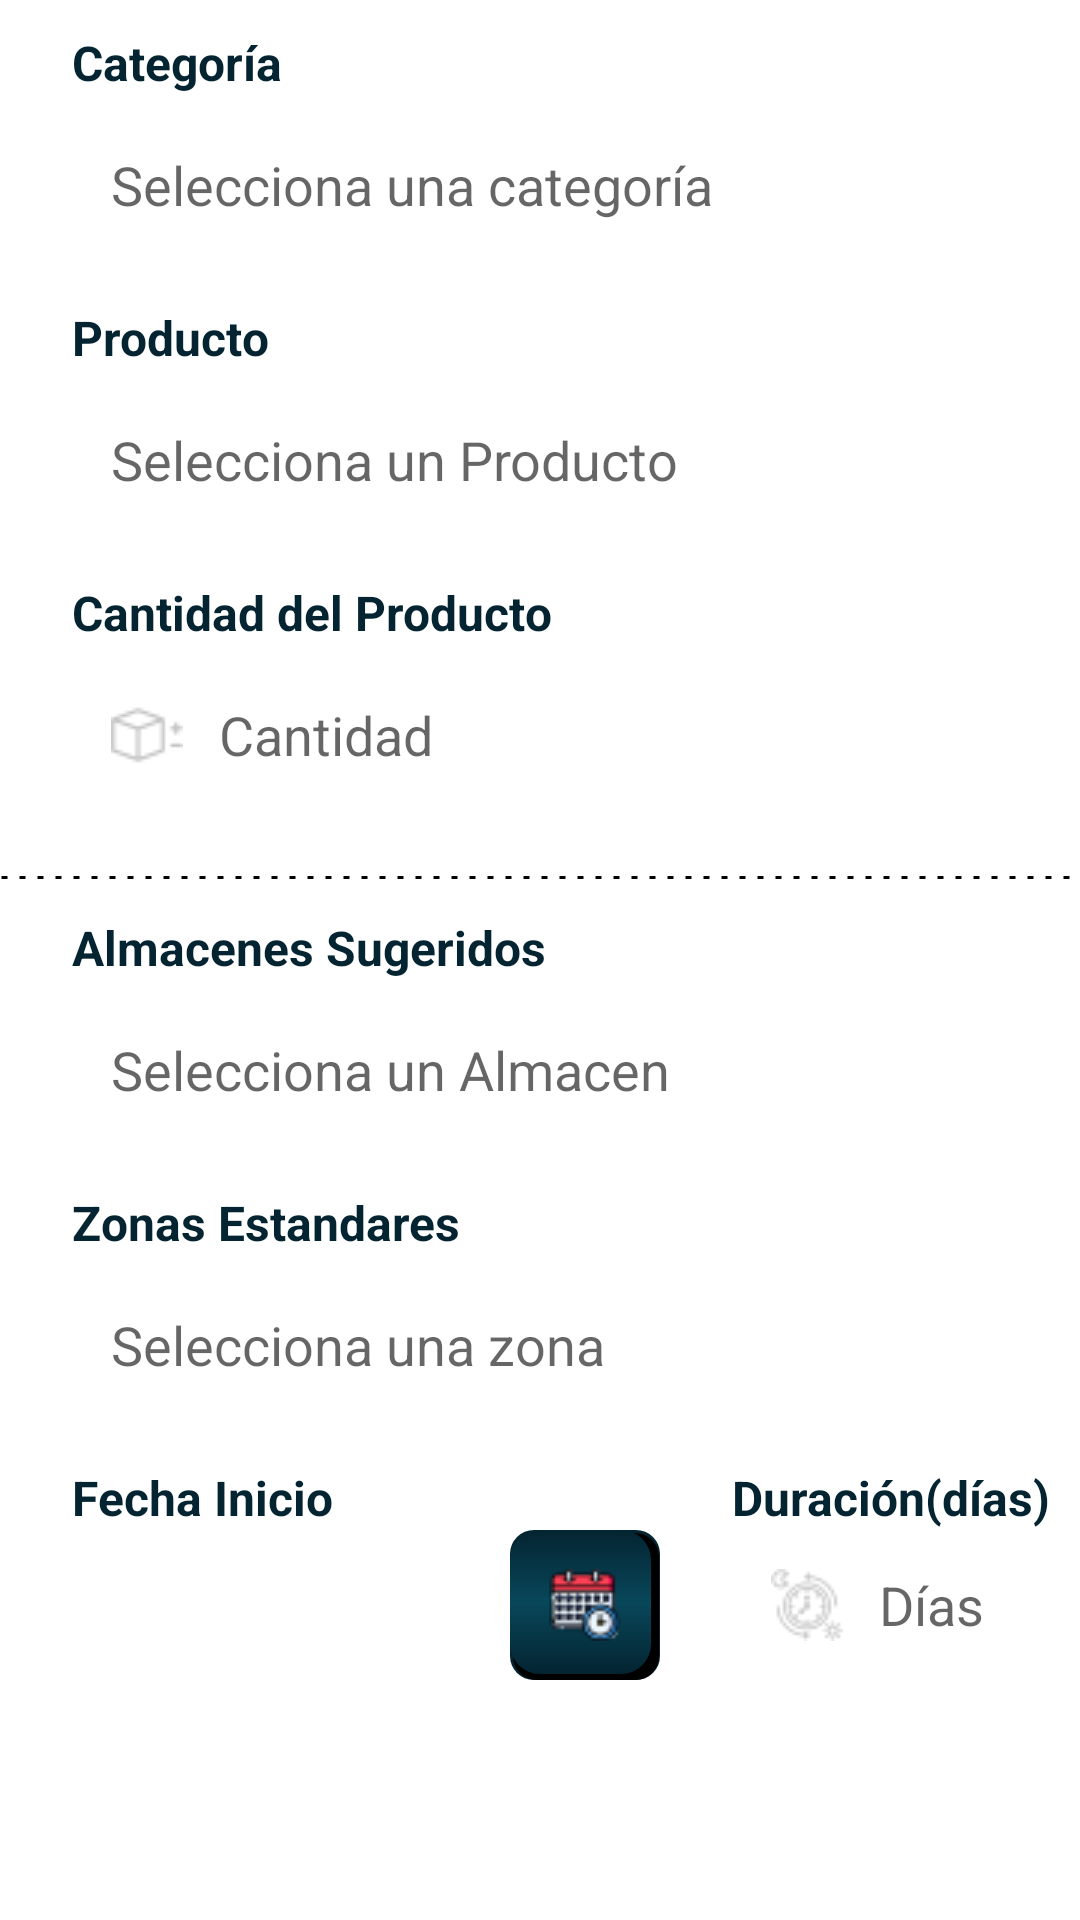

Where icons sit on this 1080 × 1920 app screen, as box(x1, y1, x2, y2):
calendar: box(510, 1530, 660, 1680)
